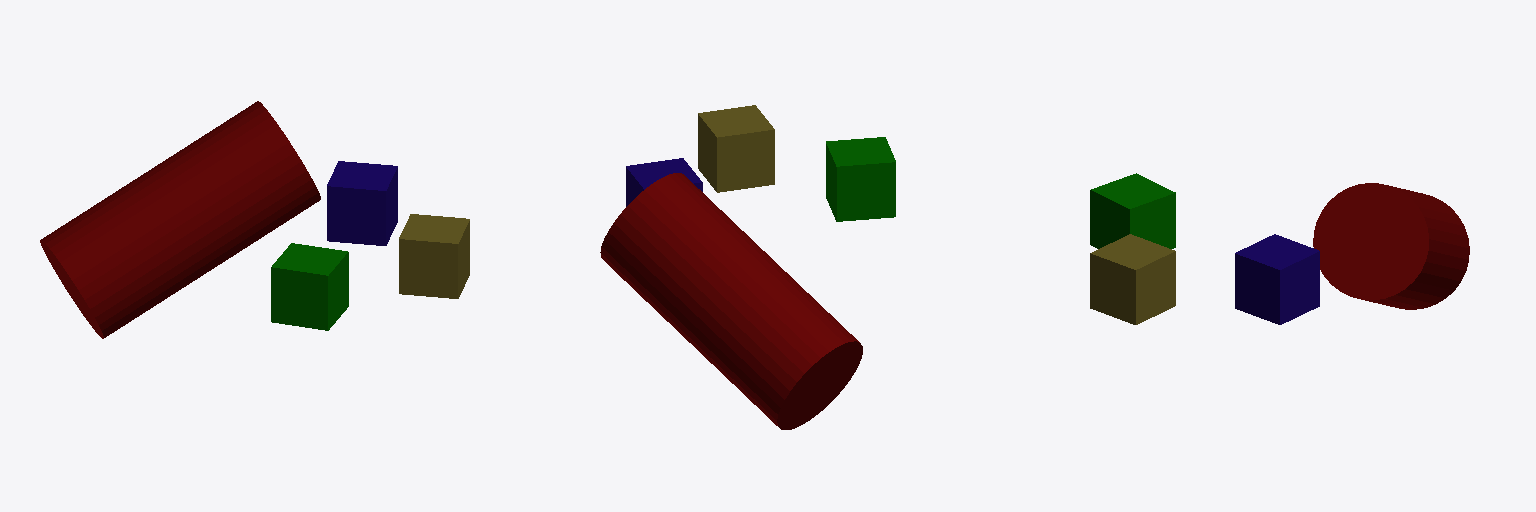
Rendered from blocks.obj.
The picture shows the model from 3 angles: view 1: azimuth 30°, elevation 25°; view 2: azimuth 150°, elevation 25°; view 3: azimuth 270°, elevation 25°; orthographic projection.
Visible parts, largest first — view 1: Cube.001_Cube.002; view 2: Cube.001_Cube.002; view 3: Cube.001_Cube.002.
Part boxes in pixels (left/top/right/bottom): Cube.001_Cube.002: left=40, top=101, right=469, bottom=338; Cube.001_Cube.002: left=600, top=105, right=895, bottom=429; Cube.001_Cube.002: left=1090, top=173, right=1469, bottom=324.
Bounding box in the file's own units: 3.24 × 2.18 × 3.74.